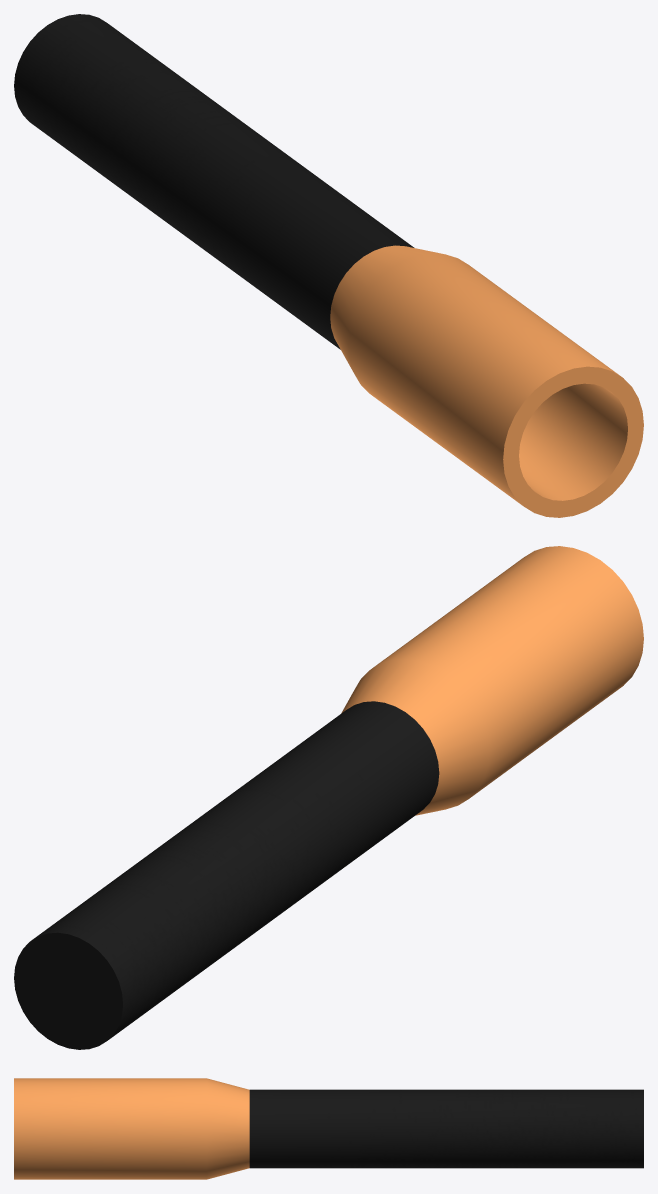
The model's file is YK_BS_Cannon_Barrel.obj.
The picture shows the model from 3 angles, top to bottom: view 1: azimuth 30°, elevation 25°; view 2: azimuth 150°, elevation 25°; view 3: azimuth 270°, elevation 25°; orthographic projection. The views are drawn at different scales.
Visible parts, largest first — view 1: Cylinder.002; view 2: Cylinder.002; view 3: Cylinder.002.
Part boxes in pixels (x1,y1,x2,y2): Cylinder.002: (14, 14, 643, 517); Cylinder.002: (14, 546, 643, 1049); Cylinder.002: (14, 1078, 643, 1179).
Bounding box in the file's own units: 0.3303 × 0.3303 × 2.05.
